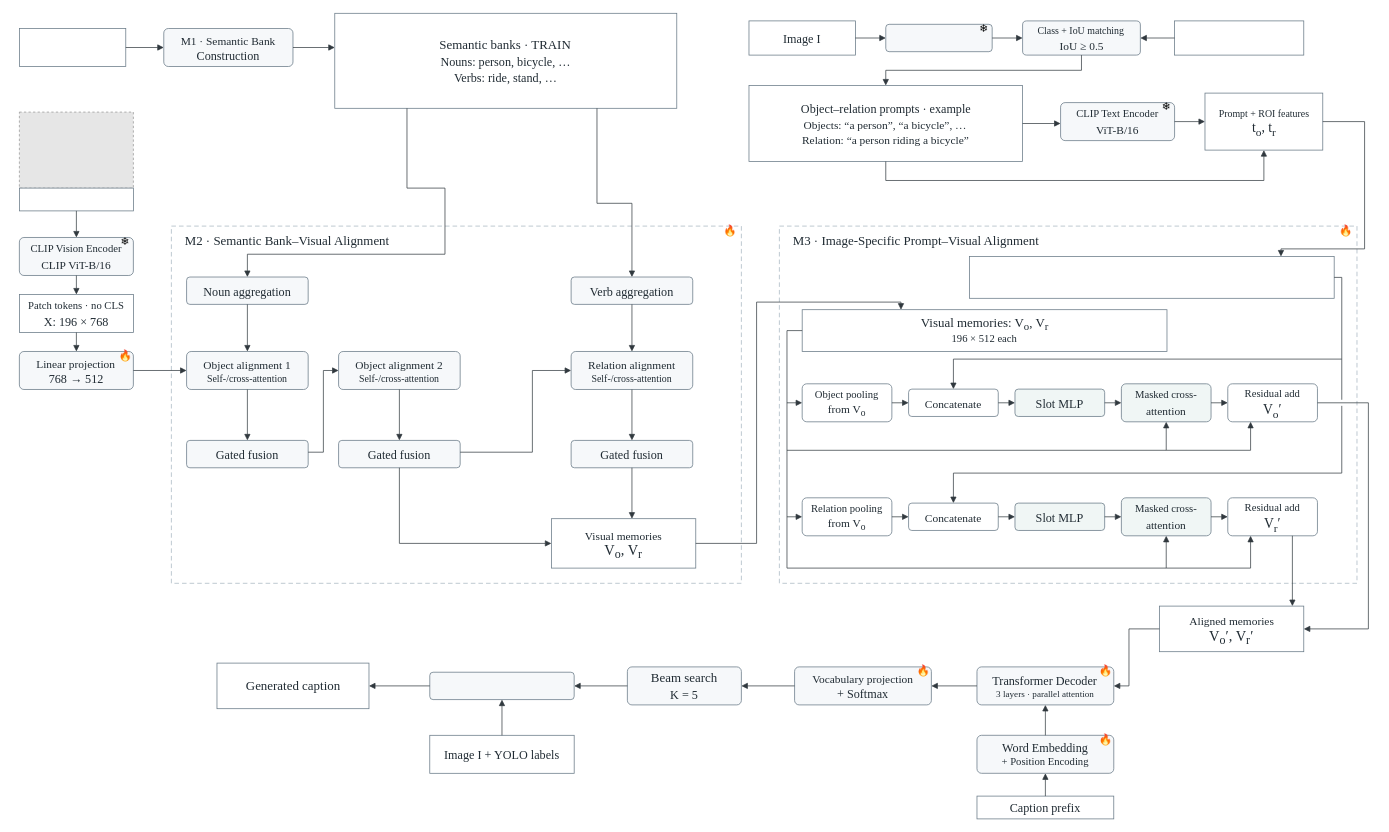
Image size: 1389x832. Some labels were removed from this diagram. Grey dashed boxes stand in for pictures. The shapes that lost their labels are listed below. From the top down, each one's box as (x1, y1, x2, y2) in pixels, then its label:
(19, 28, 126, 66): TRAIN captions
(885, 24, 992, 52): UPT detector
(1174, 20, 1304, 55): YOLO boxes
(19, 187, 133, 211): Input image I
(969, 256, 1334, 298): Prompt embeddings + ROI links
(429, 671, 574, 700): Caption reranking
